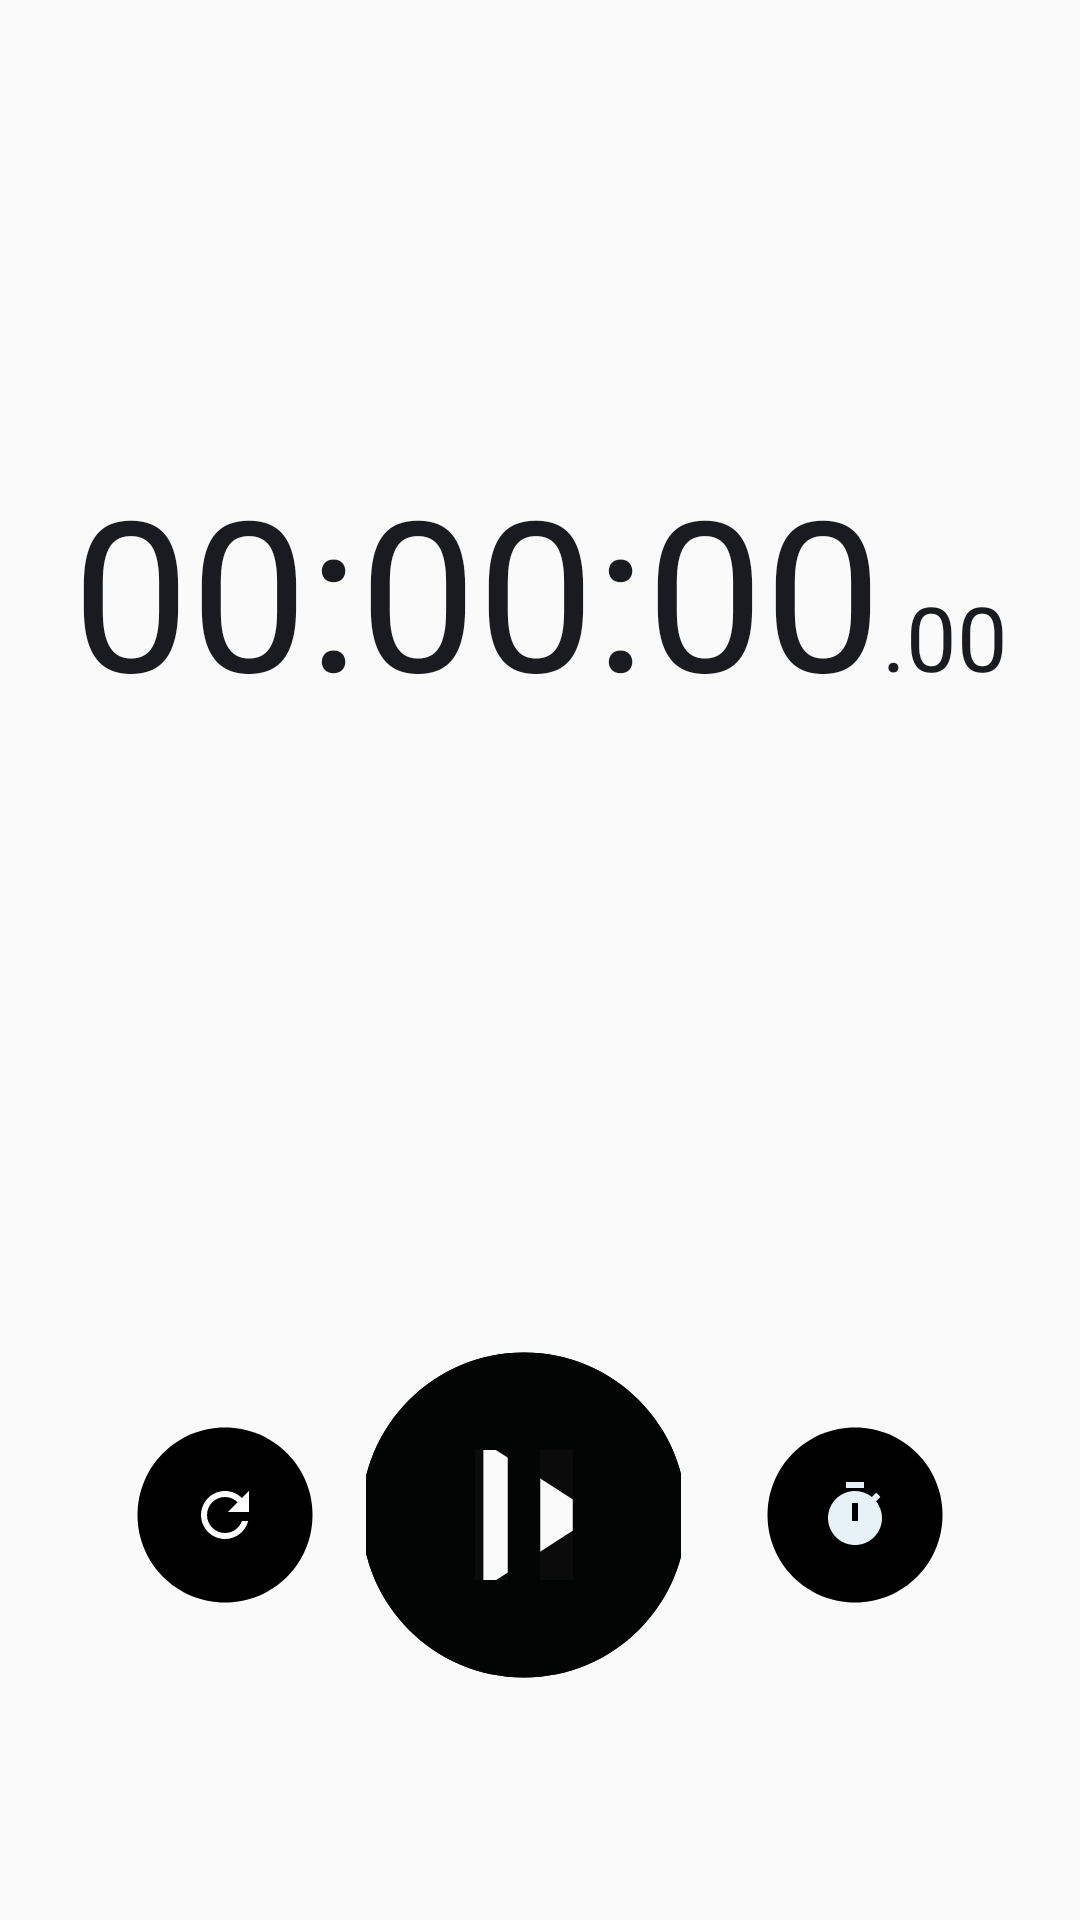

Icon click points for this 1080px x 1920px phone screenshot, format [x,y]:
refresh: [225,1515]
stopwatch: [855,1515]
